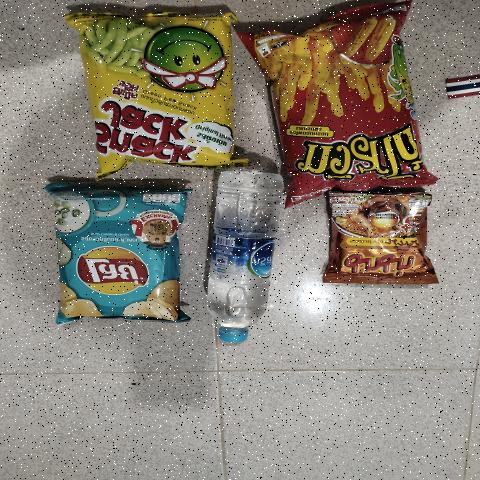crystal: (200, 177, 286, 350)
lay_blue: (61, 192, 182, 316)
mama: (342, 199, 424, 277)
snack_jack: (92, 18, 222, 158)
twisco: (287, 8, 398, 193)
